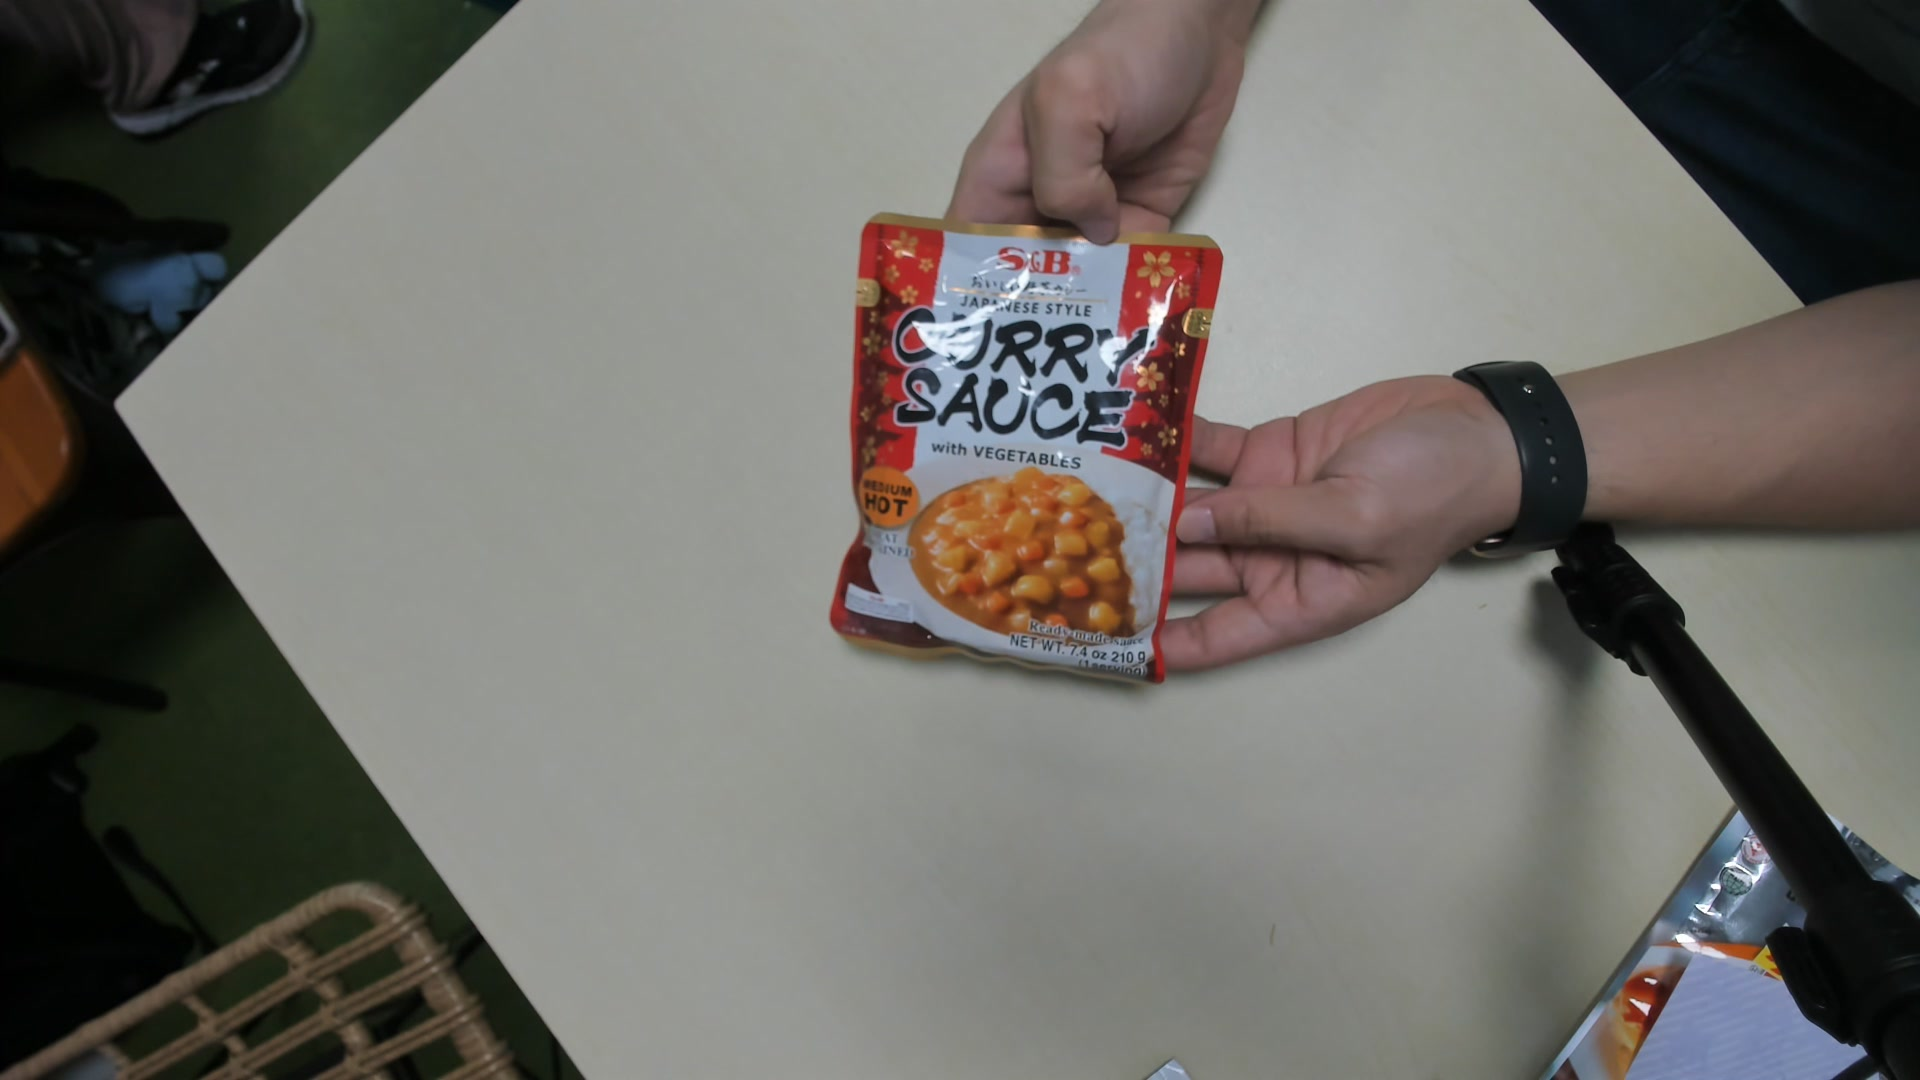CurryPastePowderSauce_200-299g_NonHalal_NonHealthy: (837, 210, 1197, 682)
